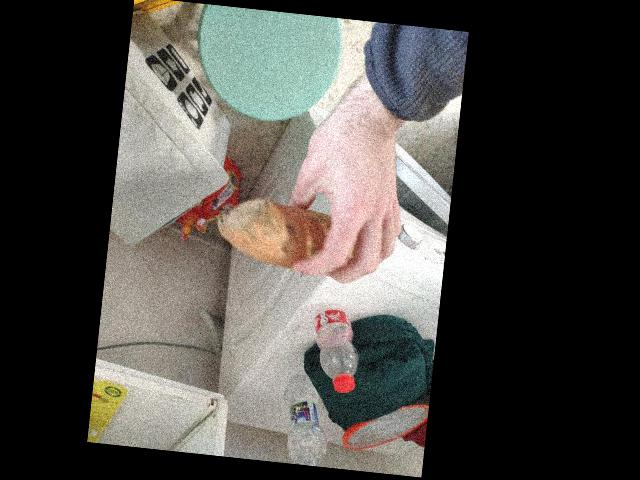sweet_potato: (248, 185, 353, 269)
